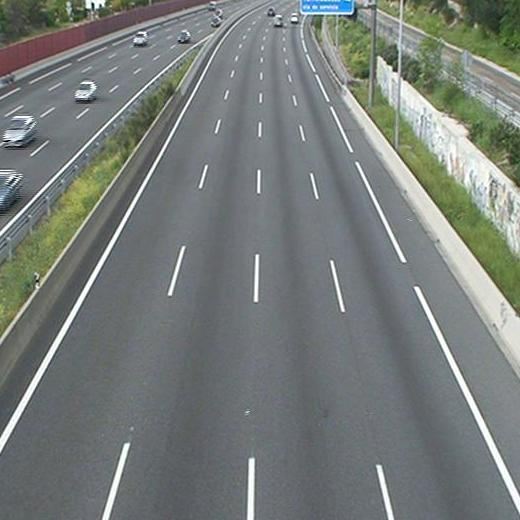car: (272, 14, 283, 26), (289, 13, 299, 22)
